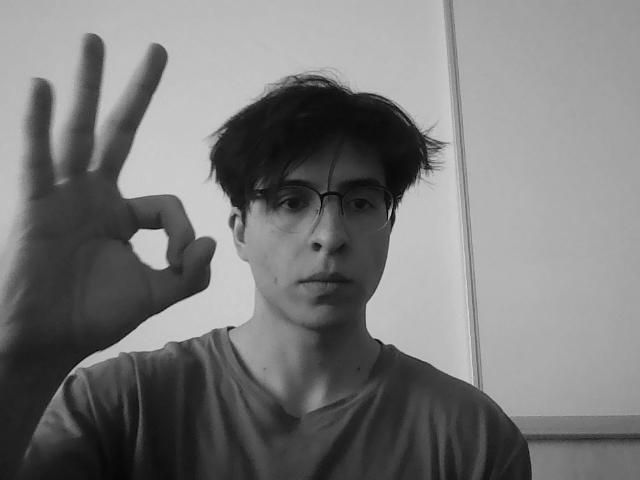OK: (2, 43, 204, 336)
